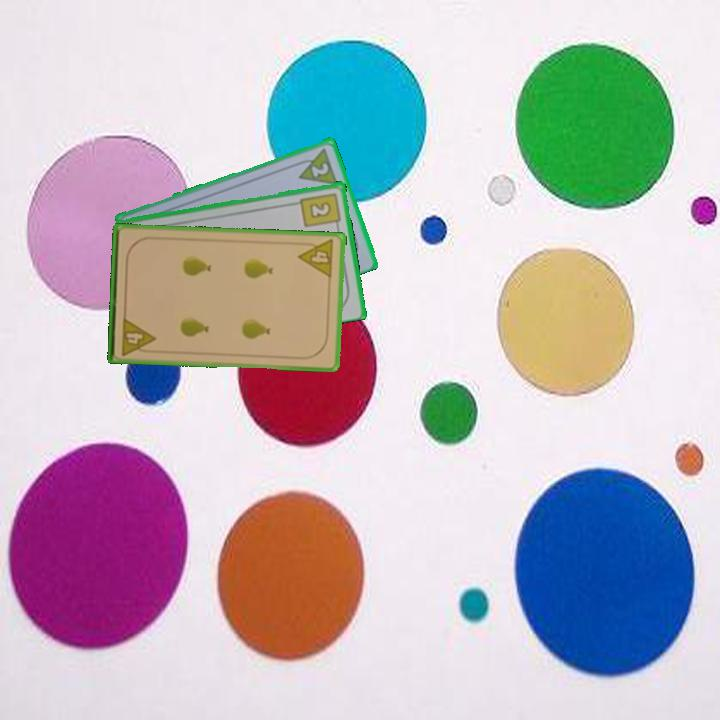2b: (297, 189, 344, 231)
2p: (291, 144, 341, 187)
4p: (296, 236, 337, 281), (118, 314, 158, 358)
